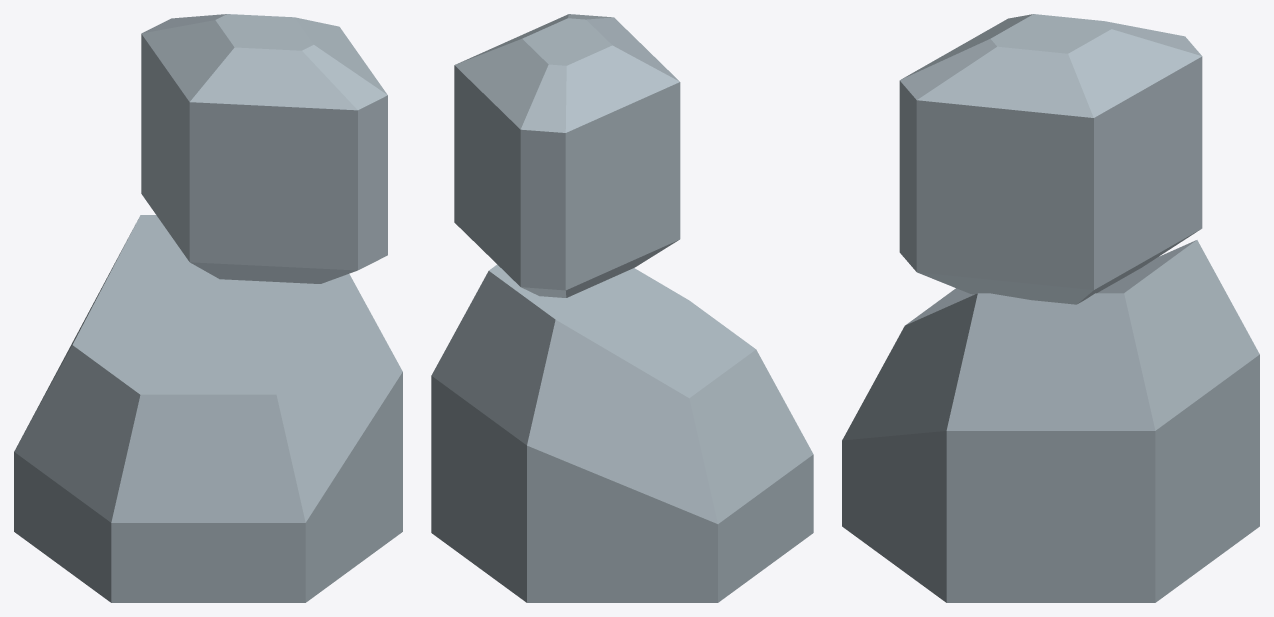
Rendered from Rock_08.fbx.
The picture shows the model from 3 angles, left to right: view 1: azimuth 30°, elevation 25°; view 2: azimuth 150°, elevation 25°; view 3: azimuth 270°, elevation 25°; orthographic projection. The views are drawn at different scales.
Parts seen in each view (by area): view 1: Cylinder.008; view 2: Cylinder.008; view 3: Cylinder.008.
Boxes of the visible parts, <box> form: Cylinder.008: <box>14,14,402,602</box>; Cylinder.008: <box>431,14,813,602</box>; Cylinder.008: <box>842,14,1259,602</box>.
Bounding box in the file's own units: 1.86 × 2.91 × 2.11.
